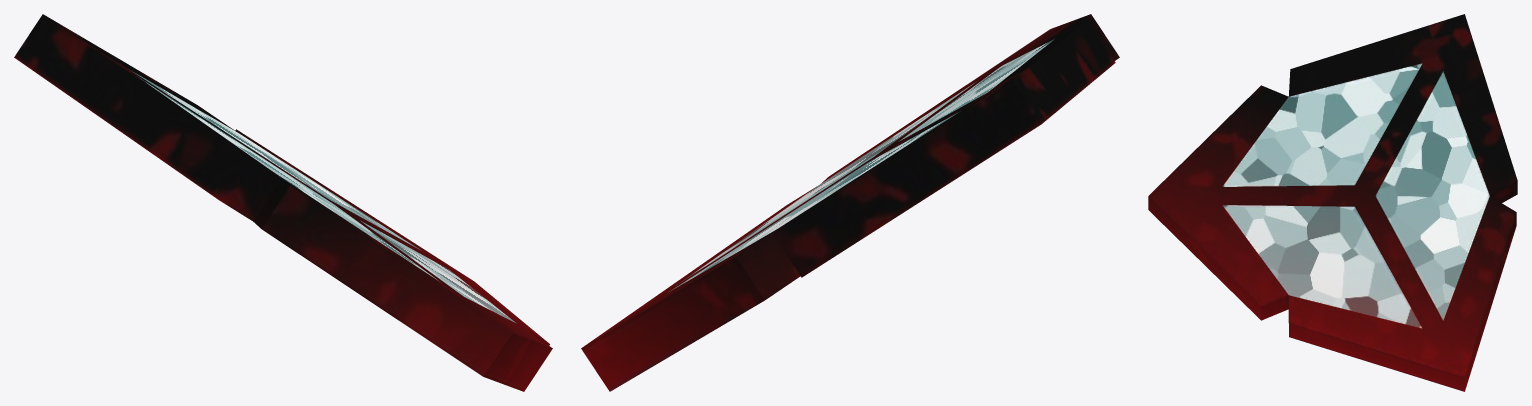
File: unity5.gltf
3 views of the same model, side by side, from view 1: azimuth 30°, elevation 25°; view 2: azimuth 150°, elevation 25°; view 3: azimuth 270°, elevation 25° (orthographic). The views are drawn at different scales.
Visible parts, largest first — view 1: unity; view 2: unity; view 3: unity.
Boxes of the visible parts, left/top/right/bottom form: unity: left=14, top=14, right=552, bottom=391; unity: left=581, top=14, right=1119, bottom=391; unity: left=1148, top=14, right=1517, bottom=391.
Size of the model in its own units: 1.87 by 1.59 by 2.08.
1 material, 1 textured.
